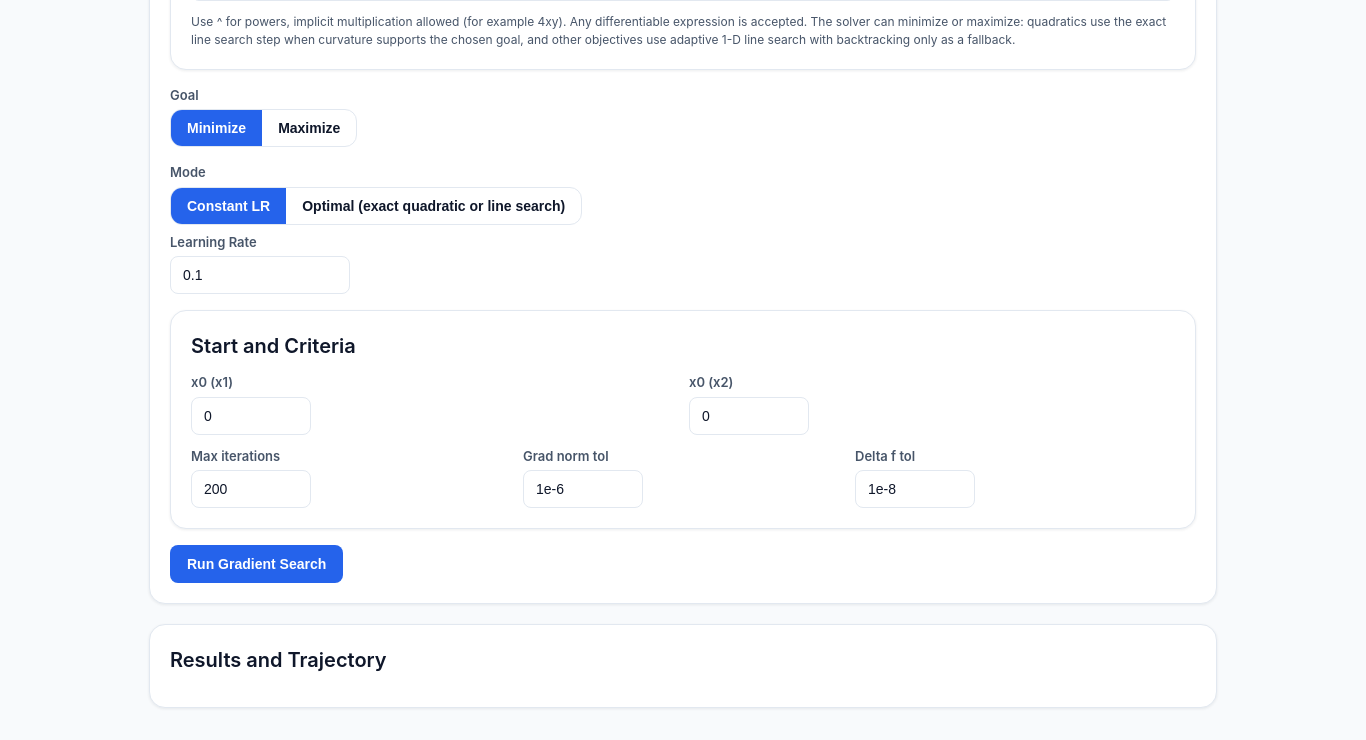
SDWorkspace › submits steepest descent and renders the convergence state
(page scrolled)
Check: the button "Minimize" is shown, box x1=171 y1=110 x2=262 y2=146
Click the button "Run Gradient Search": {"x": 257, "y": 564} x1=170 y1=545 x2=343 y2=583
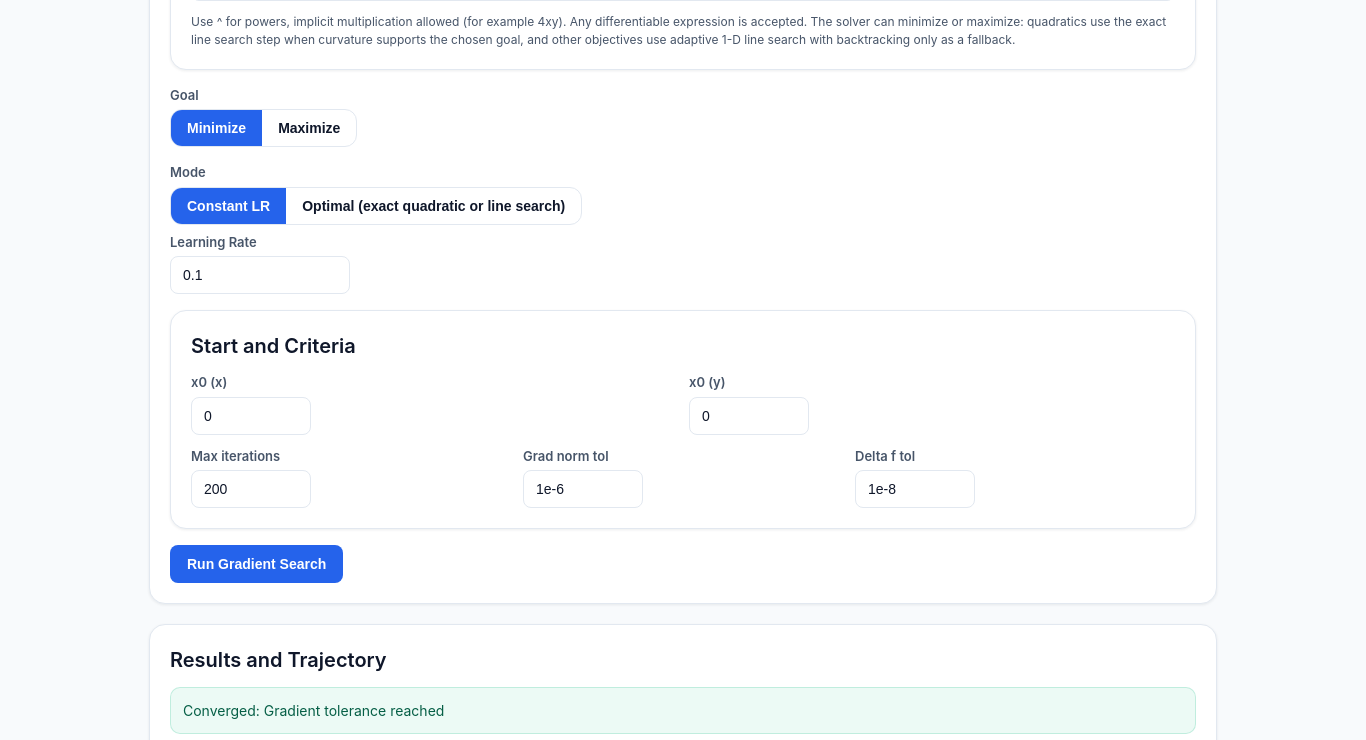
Check: the text "Converged: Gradient tolerance reached" is shown, box x1=170 y1=687 x2=1196 y2=734
